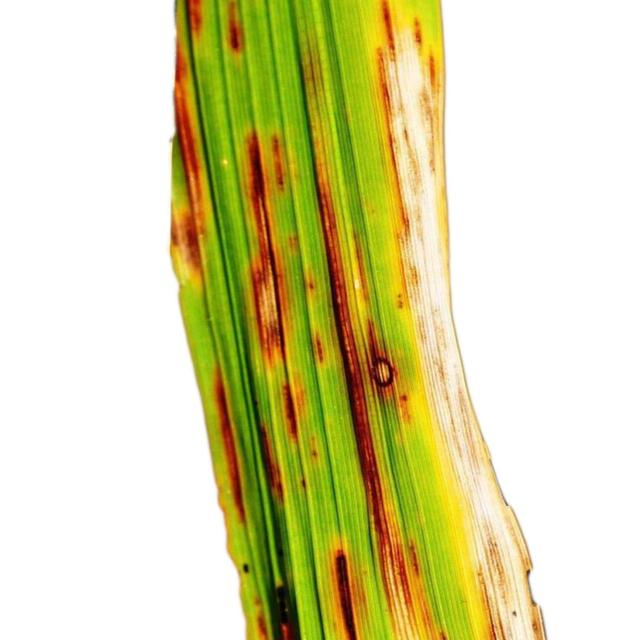Narrow brown: (144, 0, 546, 640)
